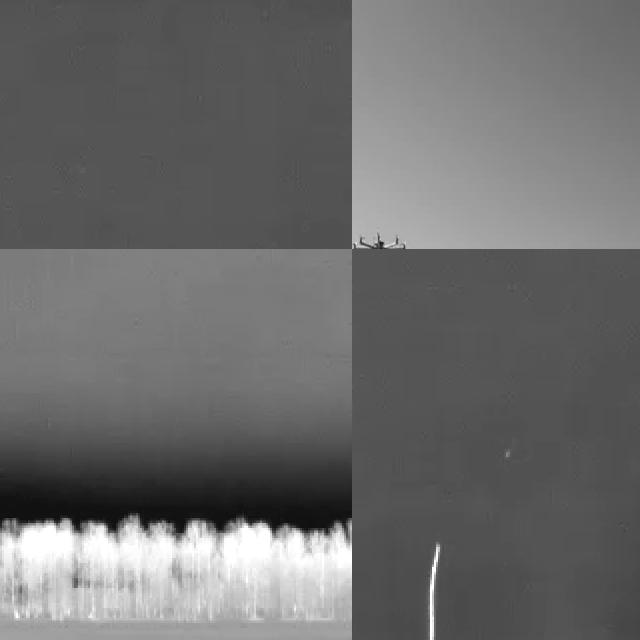0: (495, 441, 519, 473)
drone: (352, 228, 412, 249)
